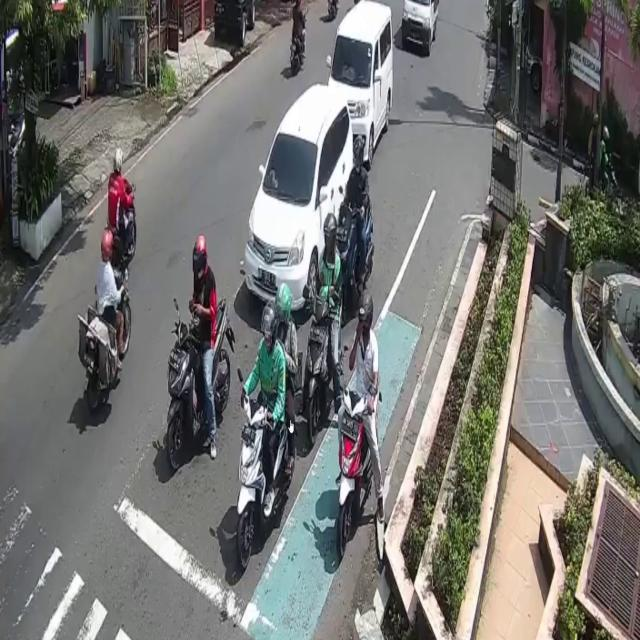bus: (163, 297, 234, 474), (237, 396, 290, 568), (337, 387, 372, 555), (305, 298, 333, 447), (338, 187, 372, 298), (114, 178, 136, 257), (290, 13, 306, 74)
motorcycle: (243, 81, 354, 319), (329, 0, 394, 162), (402, 0, 439, 58)
